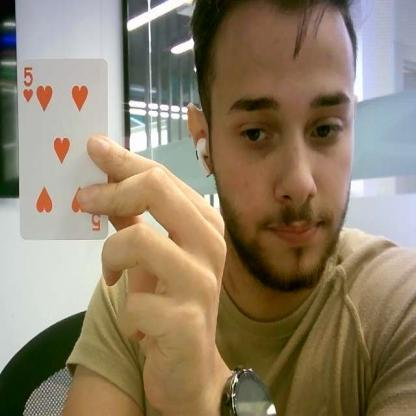5H: (21, 62, 34, 100)
